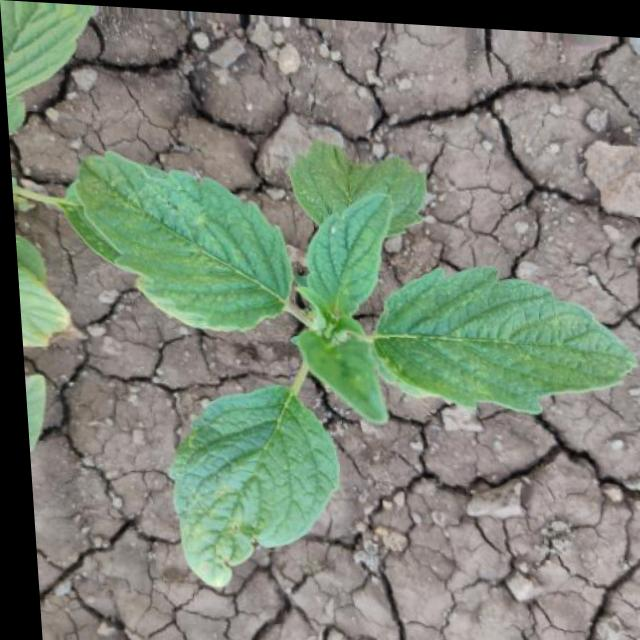crop: (45, 119, 640, 625)
